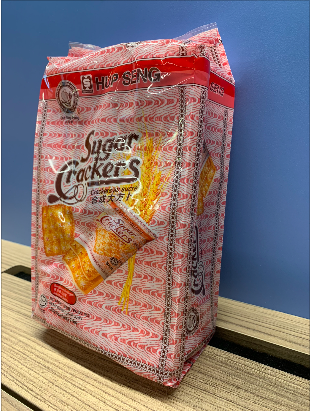Crackers_200-299g: (45, 74, 203, 342)
